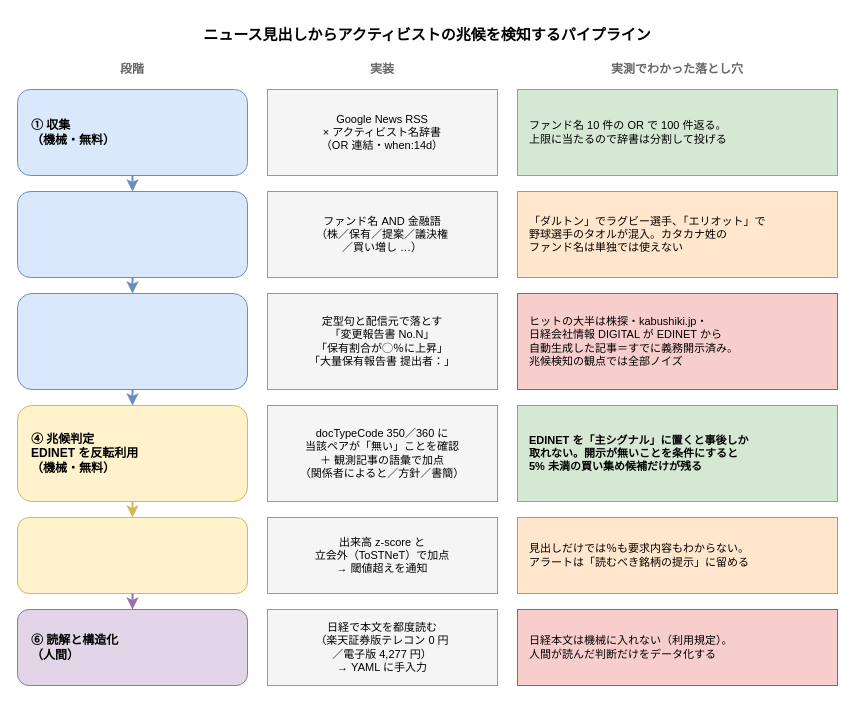
Some shapes in this 855 by 703 pixel diagram are drawn without their labels. The centre of each missing label's shape, as x and y in pixels:
② 同名衝突の除去 （機械）: point 132,234
③ 事後記事の除去 （機械・最重要）: point 132,341
⑤ 裏付けとアラート （機械・無料）: point 132,555
